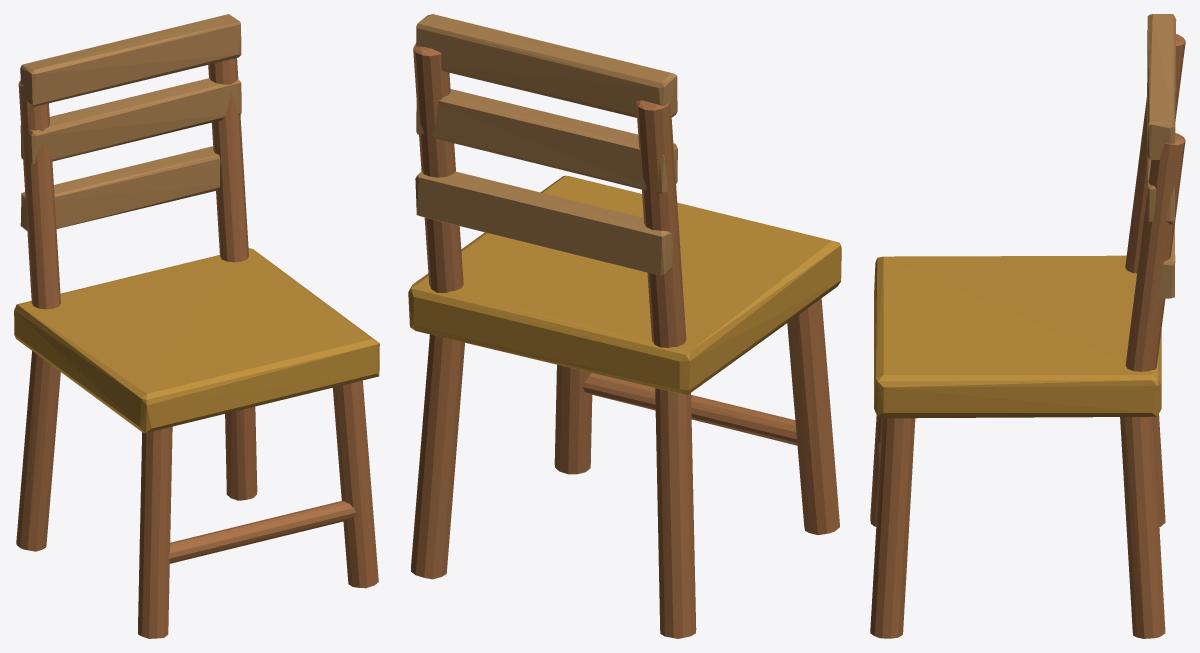
Rendered from dining-chair-near.glb.
The picture shows the model from 3 angles, left to right: view 1: azimuth 30°, elevation 25°; view 2: azimuth 150°, elevation 25°; view 3: azimuth 270°, elevation 25°; orthographic projection. The views are drawn at different scales.
Visible parts, largest first — view 1: dining-chair; view 2: dining-chair; view 3: dining-chair.
Boxes of the visible parts, bbox=[...] form: dining-chair: bbox=[14, 14, 379, 638]; dining-chair: bbox=[408, 14, 841, 638]; dining-chair: bbox=[870, 14, 1185, 638].
Bounding box in the file's own units: 0.51 × 0.9643 × 0.5382.
